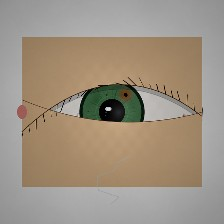foreign_body_visible: (54, 114, 74, 131)
